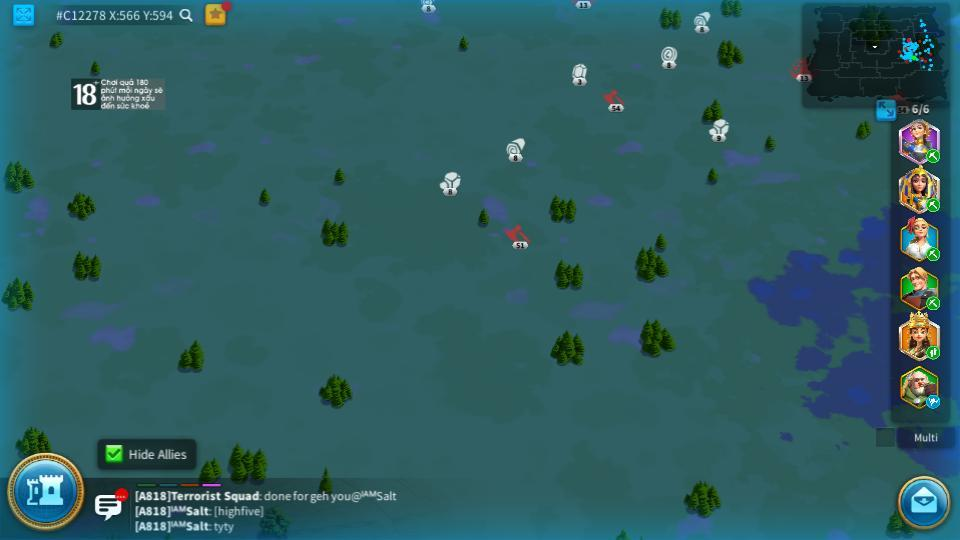gem-z-out: (571, 63, 588, 85)
march_idle: (925, 394, 942, 408)
march_marching: (925, 197, 941, 212), (925, 345, 941, 359), (925, 150, 941, 162), (925, 297, 942, 308)
